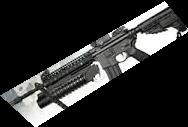gun: (0, 1, 188, 127)
